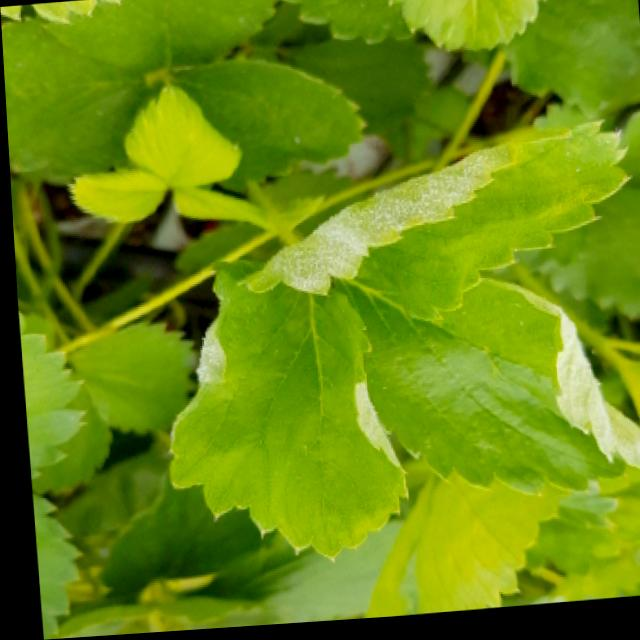Powdery Mildew Leaf: (232, 124, 630, 324), (164, 261, 403, 567), (327, 280, 640, 503)
